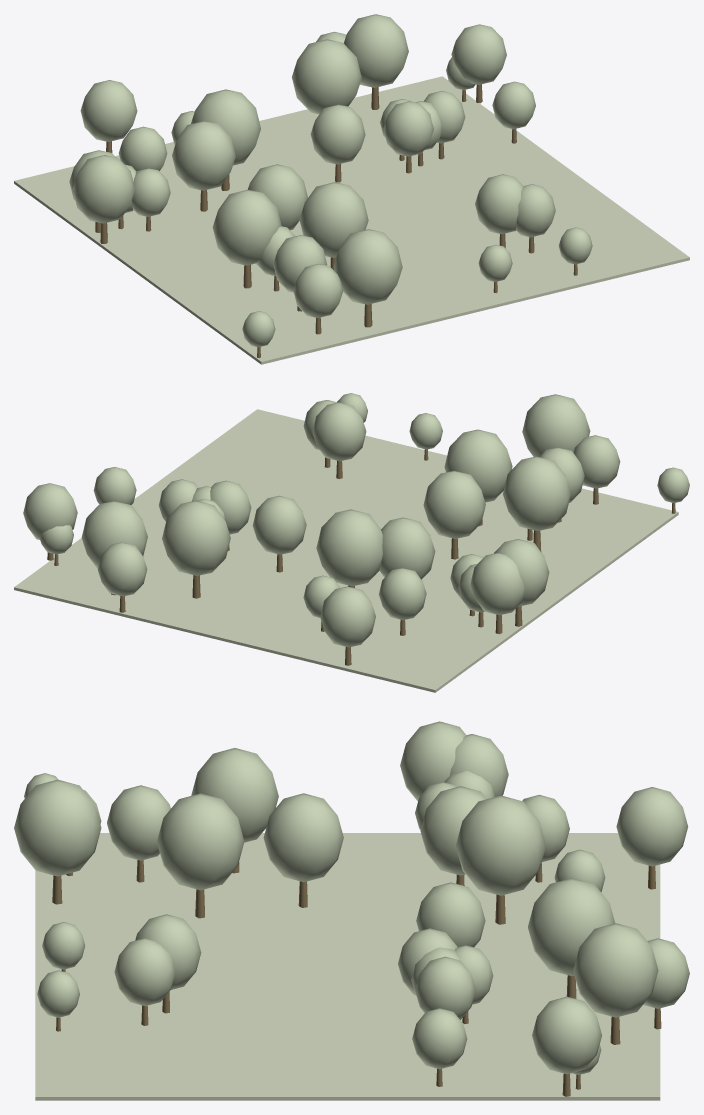
The picture shows the model from 3 angles, top to bottom: view 1: azimuth 30°, elevation 25°; view 2: azimuth 150°, elevation 25°; view 3: azimuth 270°, elevation 25°; orthographic projection. The views are drawn at different scales.
Parts seen in each view (by area): view 1: terrain, lod-near-19, lod-near-25, lod-near-29, lod-near-22, lod-near-21, lod-near-28, lod-near-7, lod-near-0, lod-near-6, lod-near-30, lod-near-16 (+14 smaller); view 2: terrain, lod-near-0, lod-near-25, lod-near-29, lod-near-24, lod-near-19, lod-near-22, lod-near-28, lod-near-6, lod-near-21, lod-near-1, lod-near-3 (+17 smaller); view 3: terrain, lod-near-0, lod-near-22, lod-near-19, lod-near-28, lod-near-24, lod-near-25, lod-near-29, lod-near-6, lod-near-16, lod-near-26, lod-near-7 (+17 smaller).
Boxes of the visible parts, x1,y1,x2,y2 form: terrain: (14,76,689,364); lod-near-19: (333,229,402,304); lod-near-25: (292,39,361,114); lod-near-29: (212,189,281,265); lod-near-22: (299,182,368,257); lod-near-21: (172,121,235,190); lod-near-28: (343,14,408,87); lod-near-7: (72,155,135,223); lod-near-0: (191,89,260,165); lod-near-6: (80,80,137,141); lod-near-30: (310,104,365,164); lod-near-16: (451,24,506,84); terrain: (14,409,678,692); lod-near-0: (316,509,382,586); lod-near-25: (162,500,230,575); lod-near-29: (503,456,571,530); lod-near-24: (423,470,485,538); lod-near-19: (522,394,590,456); lod-near-22: (444,429,512,502); lod-near-28: (81,501,147,568); lod-near-6: (320,586,375,647); lod-near-21: (379,517,435,579); lod-near-1: (470,553,524,615); lod-near-3: (312,402,366,461); terrain: (35,833,660,1100); lod-near-0: (455,795,546,895); lod-near-22: (157,793,244,890); lod-near-19: (14,779,101,876); lod-near-28: (573,923,658,1017); lod-near-24: (263,793,343,882); lod-near-25: (528,878,614,976); lod-near-29: (191,748,278,842); lod-near-6: (616,787,688,866); lod-near-16: (532,996,601,1074); lod-near-26: (107,785,170,860); lod-near-7: (400,721,466,800).
Size of the model in its own units: 35.61 by 7.31 by 34.61.
